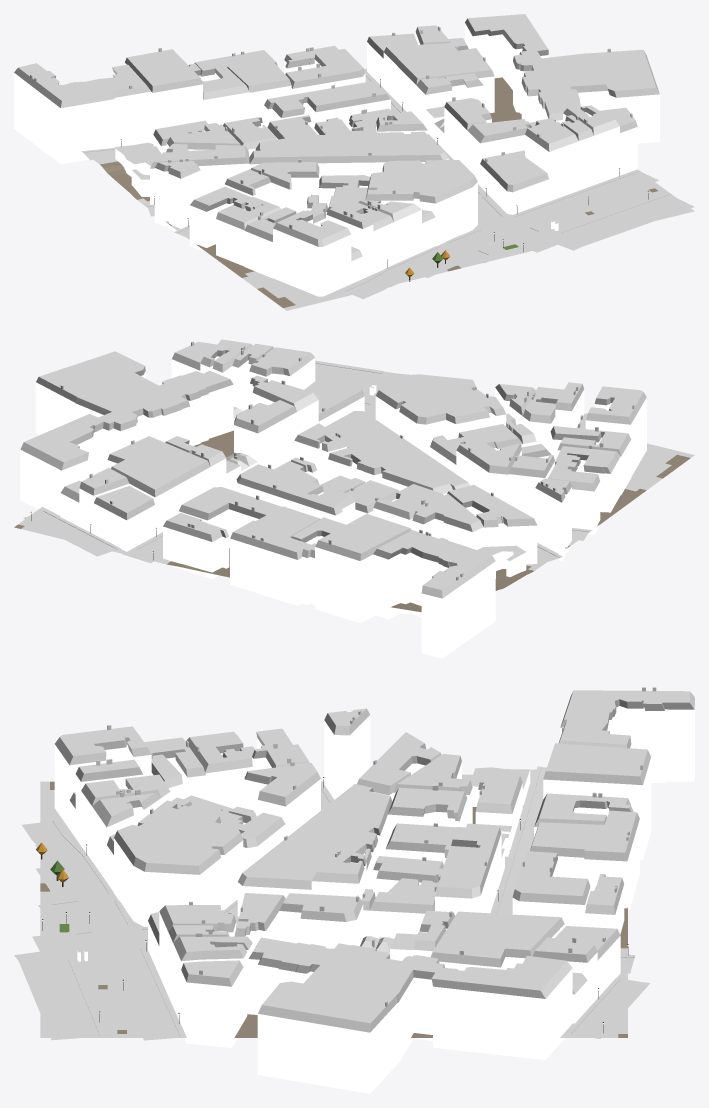
The model's file is zone_G3.glb.
3 renders of one model, top to bottom at view 1: azimuth 30°, elevation 25°; view 2: azimuth 150°, elevation 25°; view 3: azimuth 270°, elevation 25°, orthographic. The views are drawn at different scales.
Parts seen in each view (by area): view 1: zone_G3_batiments, zone_G3_sol_NOCOL, zone_G3_terrain; view 2: zone_G3_batiments, zone_G3_sol_NOCOL, zone_G3_terrain; view 3: zone_G3_batiments, zone_G3_sol_NOCOL, zone_G3_terrain.
Part boxes in pixels (<box>): zone_G3_batiments: <box>14,14,659,296</box>; zone_G3_sol_NOCOL: <box>82,68,694,302</box>; zone_G3_terrain: <box>94,68,694,310</box>; zone_G3_batiments: <box>20,339,646,658</box>; zone_G3_sol_NOCOL: <box>23,360,662,564</box>; zone_G3_terrain: <box>14,389,694,612</box>; zone_G3_batiments: <box>54,687,694,1093</box>; zone_G3_sol_NOCOL: <box>14,766,650,1040</box>; zone_G3_terrain: <box>40,769,627,1037</box>.
Size of the model in its own units: 235 by 30.9 by 212.
